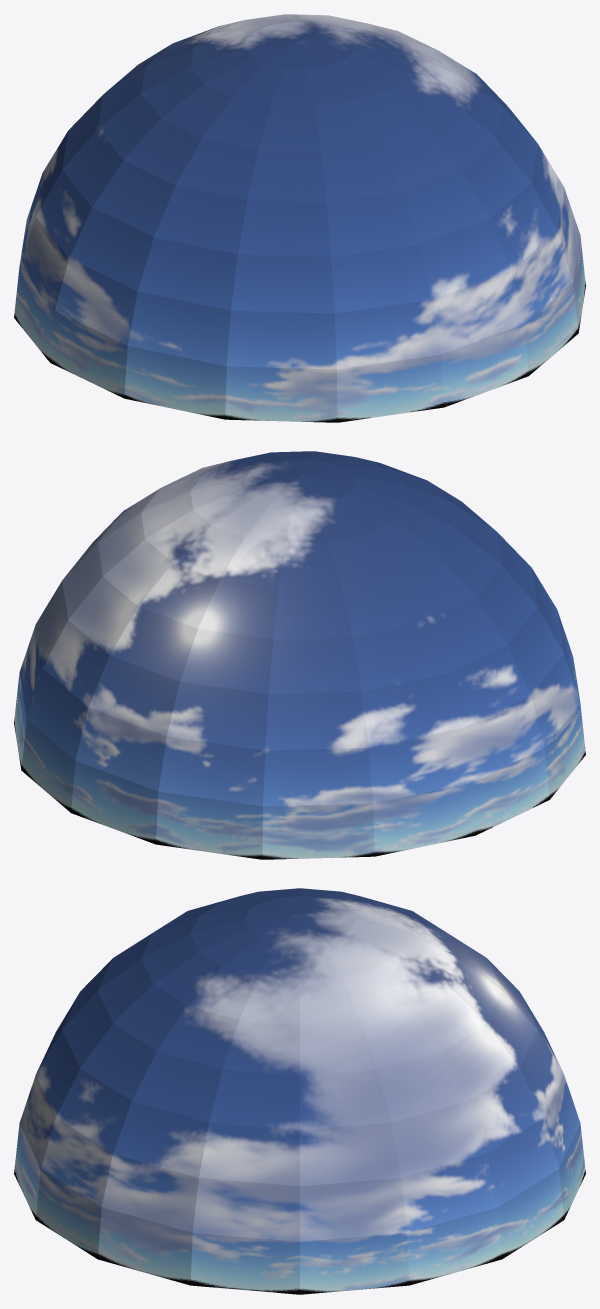
File: sky.obj
3 renders of one model, top to bottom at view 1: azimuth 30°, elevation 25°; view 2: azimuth 150°, elevation 25°; view 3: azimuth 270°, elevation 25°, orthographic.
Visible parts, largest first — view 1: sky:Mesh; view 2: sky:Mesh; view 3: sky:Mesh.
Part boxes in pixels (box(x1,y1,x2,y2)): sky:Mesh: box(14, 14, 585, 422); sky:Mesh: box(14, 451, 585, 859); sky:Mesh: box(14, 888, 585, 1294).
Size of the model in its own units: 2 by 1 by 2.
1 material, 1 textured.
